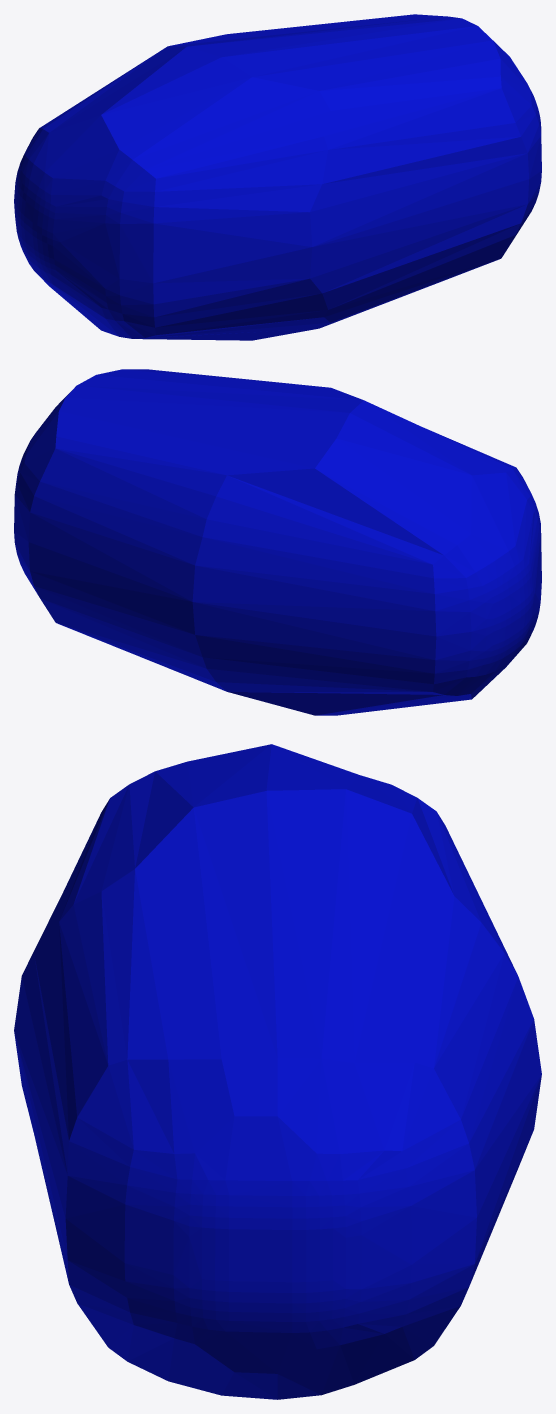
The model's file is COL_hollie_real.013.dae.
The picture shows the model from 3 angles, top to bottom: view 1: azimuth 30°, elevation 25°; view 2: azimuth 150°, elevation 25°; view 3: azimuth 270°, elevation 25°; orthographic projection. The views are drawn at different scales.
Parts seen in each view (by area): view 1: COL_COL_COL_VIS_VIS_VIS_VIS_VIS_VIS_VIS_VIS_VIS_hollie_real_; view 2: COL_COL_COL_VIS_VIS_VIS_VIS_VIS_VIS_VIS_VIS_VIS_hollie_real_; view 3: COL_COL_COL_VIS_VIS_VIS_VIS_VIS_VIS_VIS_VIS_VIS_hollie_real_.
Part boxes in pixels (x1,y1,x2,y2): COL_COL_COL_VIS_VIS_VIS_VIS_VIS_VIS_VIS_VIS_VIS_hollie_real_: (14,14,541,340); COL_COL_COL_VIS_VIS_VIS_VIS_VIS_VIS_VIS_VIS_VIS_hollie_real_: (14,369,541,715); COL_COL_COL_VIS_VIS_VIS_VIS_VIS_VIS_VIS_VIS_VIS_hollie_real_: (14,744,541,1399).
Bounding box in the file's own units: 0.1052 × 0.0608 × 0.058.
